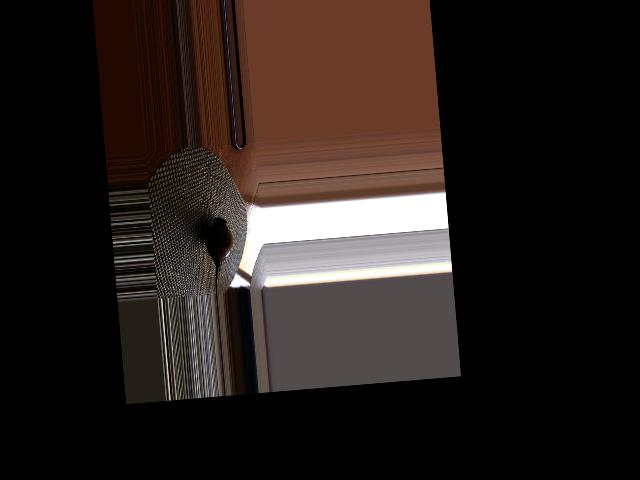beet: (204, 216, 237, 294)
